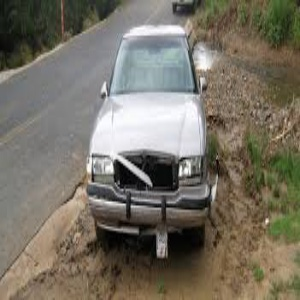door_scratch: (119, 87, 250, 173)
